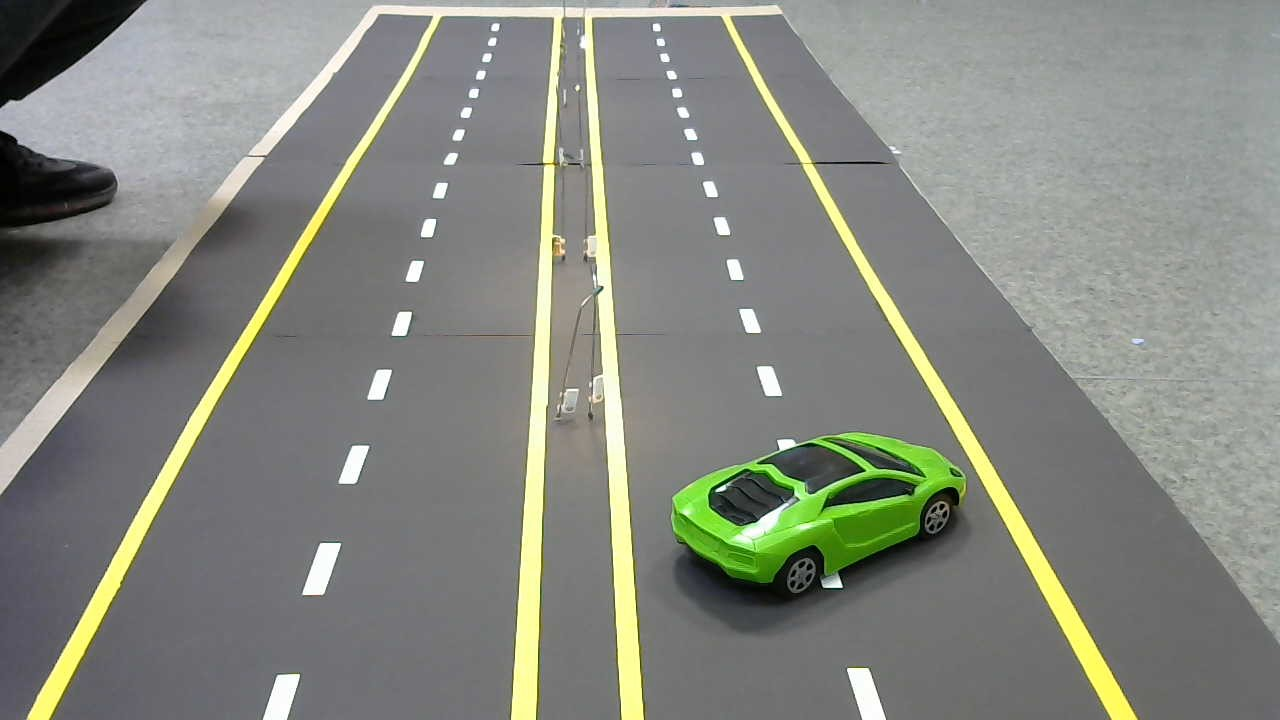overturn_car: (669, 430, 973, 588)
